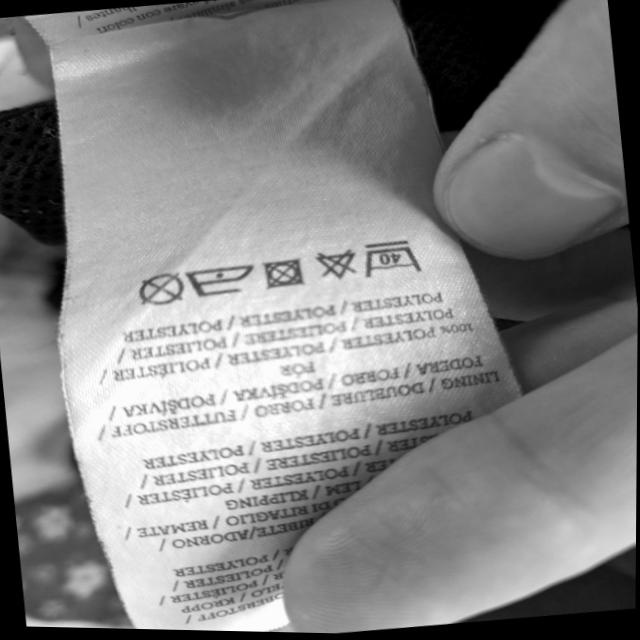40C: (363, 238, 419, 279)
DN_bleach: (314, 248, 357, 283)
DN_dry_clean: (138, 267, 181, 306)
DN_tumble_dry: (260, 257, 307, 290)
iron_low: (184, 263, 254, 299)
